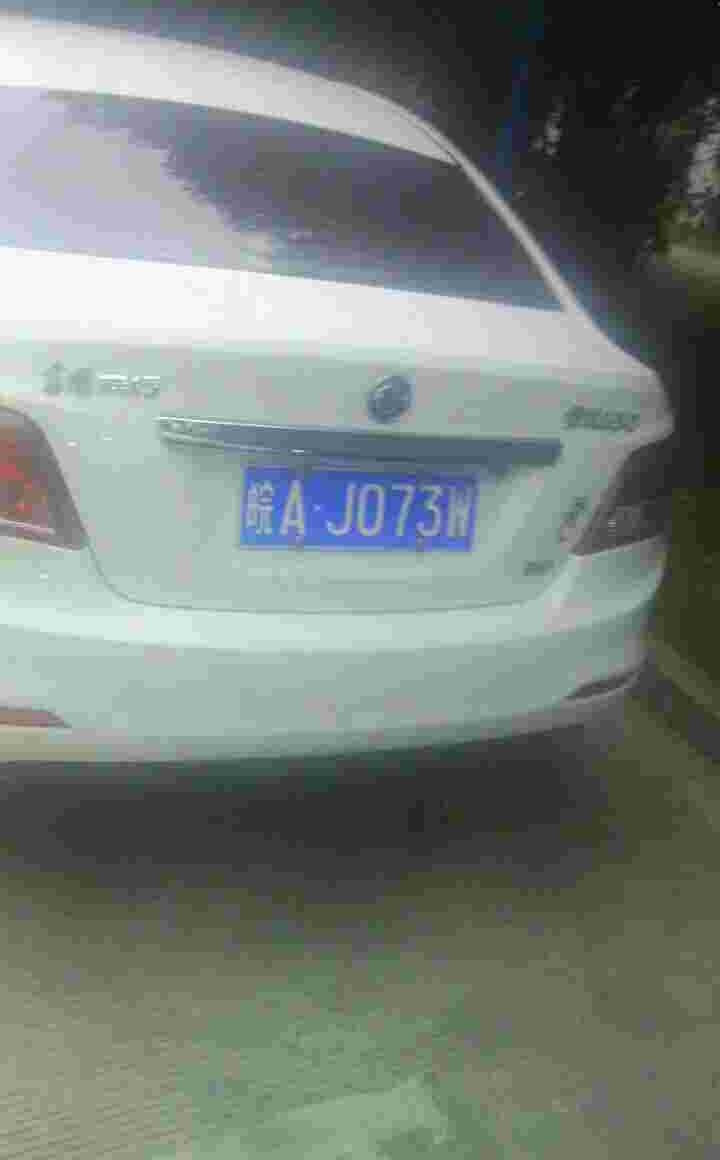license_plate: (239, 468, 476, 554)
